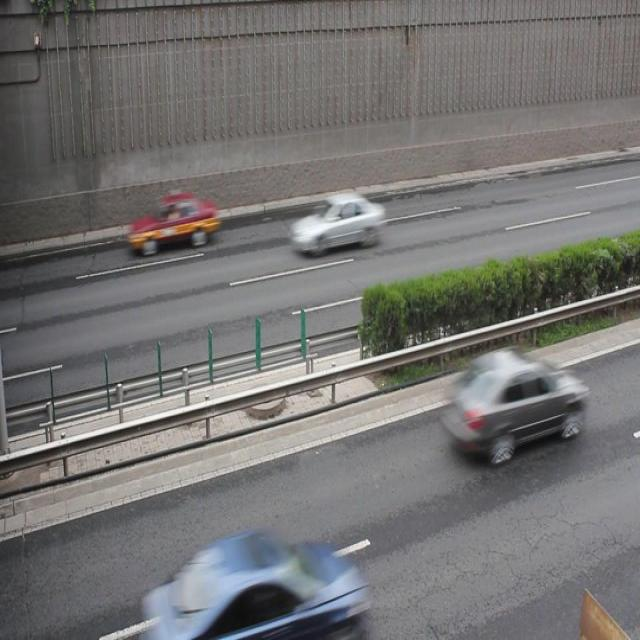car: (150, 527, 364, 640), (442, 346, 582, 459), (288, 190, 384, 253), (126, 192, 218, 256)
